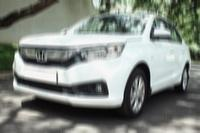Car hood: (17, 29, 143, 49)
Fender - -F-L-: (120, 34, 153, 90)
Front bumper: (11, 52, 128, 110)
Headlight - -L-: (75, 40, 125, 66)
Headlight - -R-: (14, 37, 30, 63)
Passenger-s door - -F-L-: (153, 15, 172, 84)
Passenger-s door - -R-L-: (171, 20, 188, 85)
Side bumper - -L-: (148, 71, 185, 97)
Side mirror - -L-: (152, 26, 174, 41)
Side mirror - -R-: (55, 27, 70, 37)
